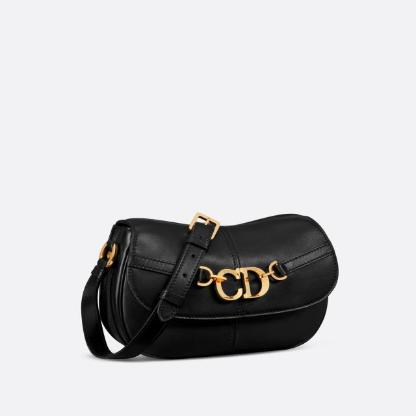bag: (71, 204, 347, 366)
